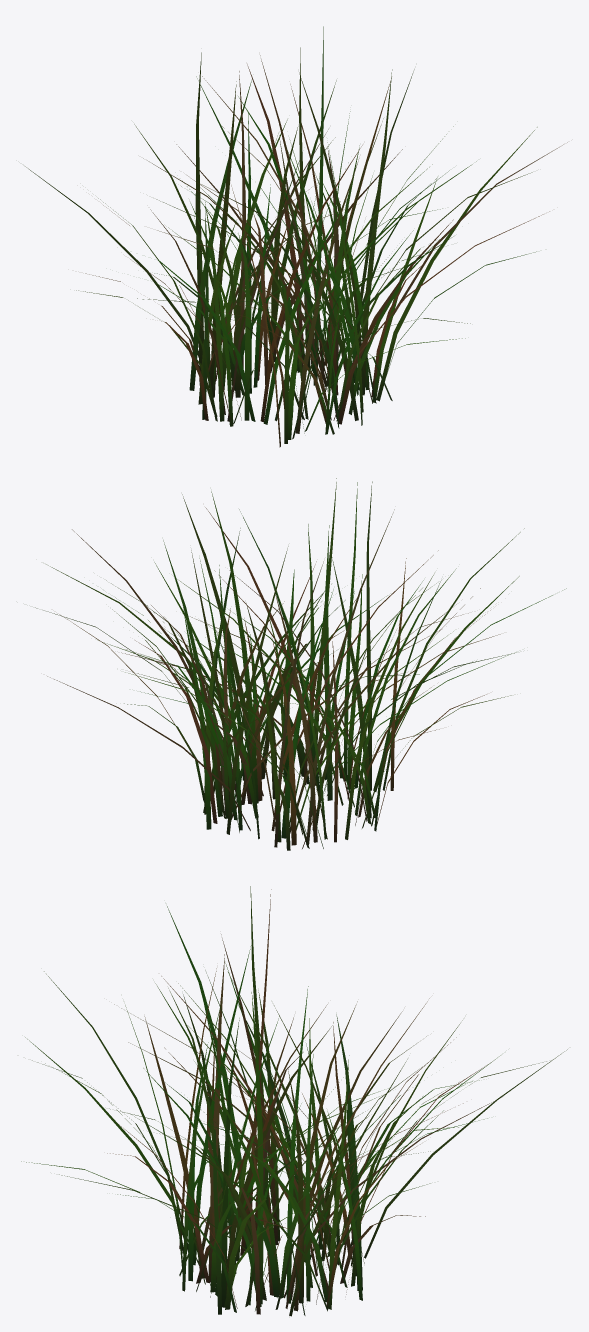
File: RoadsideGrass_Mixed.fbx
3 renders of one model, top to bottom at view 1: azimuth 30°, elevation 25°; view 2: azimuth 150°, elevation 25°; view 3: azimuth 270°, elevation 25°, orthographic. The views are drawn at different scales.
Parts seen in each view (by area): view 1: RoadsideGrass_Mixed; view 2: RoadsideGrass_Mixed; view 3: RoadsideGrass_Mixed.
Boxes of the visible parts, box(x1,y1,x2,y2) form: RoadsideGrass_Mixed: box(25, 26, 567, 447); RoadsideGrass_Mixed: box(35, 478, 566, 850); RoadsideGrass_Mixed: box(21, 886, 567, 1316).
Size of the model in its own units: 87.79 by 48.42 by 83.76.
